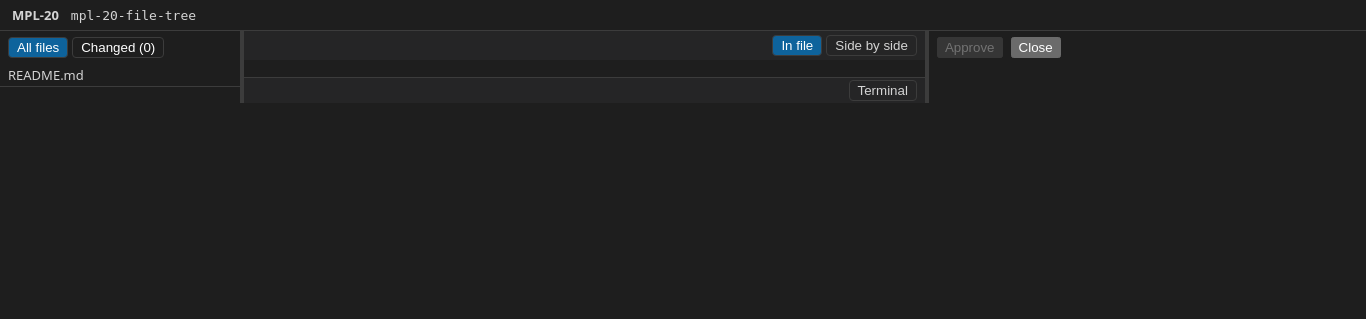
Test: CardTab › keeps a file opened before the PR exists active when the PR appears
Click the text "README.md" at (46, 75), box [8,66,84,84]
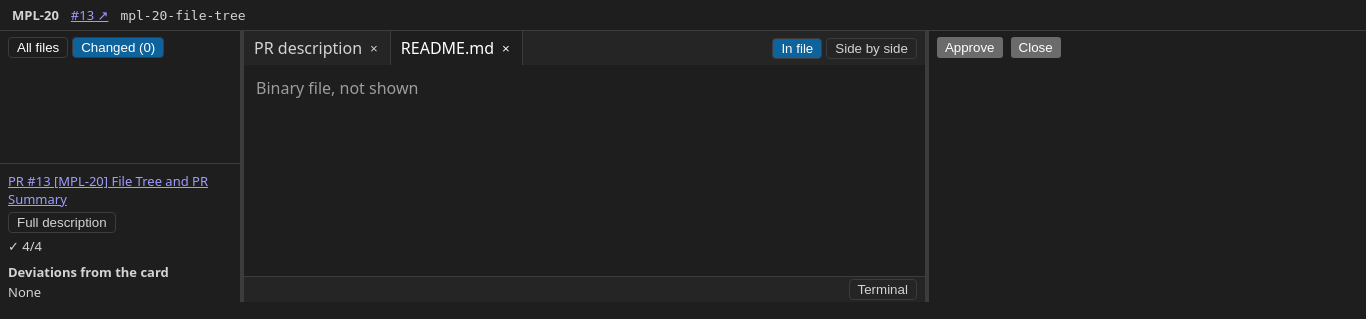
Result: the tab "PR description ×" is shown at [244,31,391,65]
Result: the tab "README.md ×" is shown at [391,31,523,65]
